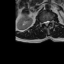CCS_normal: (45, 19, 47, 28)
LFS_stenosis: (50, 19, 51, 24)
LLS_normal: (47, 19, 50, 25)
RFS_stenosis: (41, 21, 43, 25)
RLS_normal: (43, 20, 45, 25)
